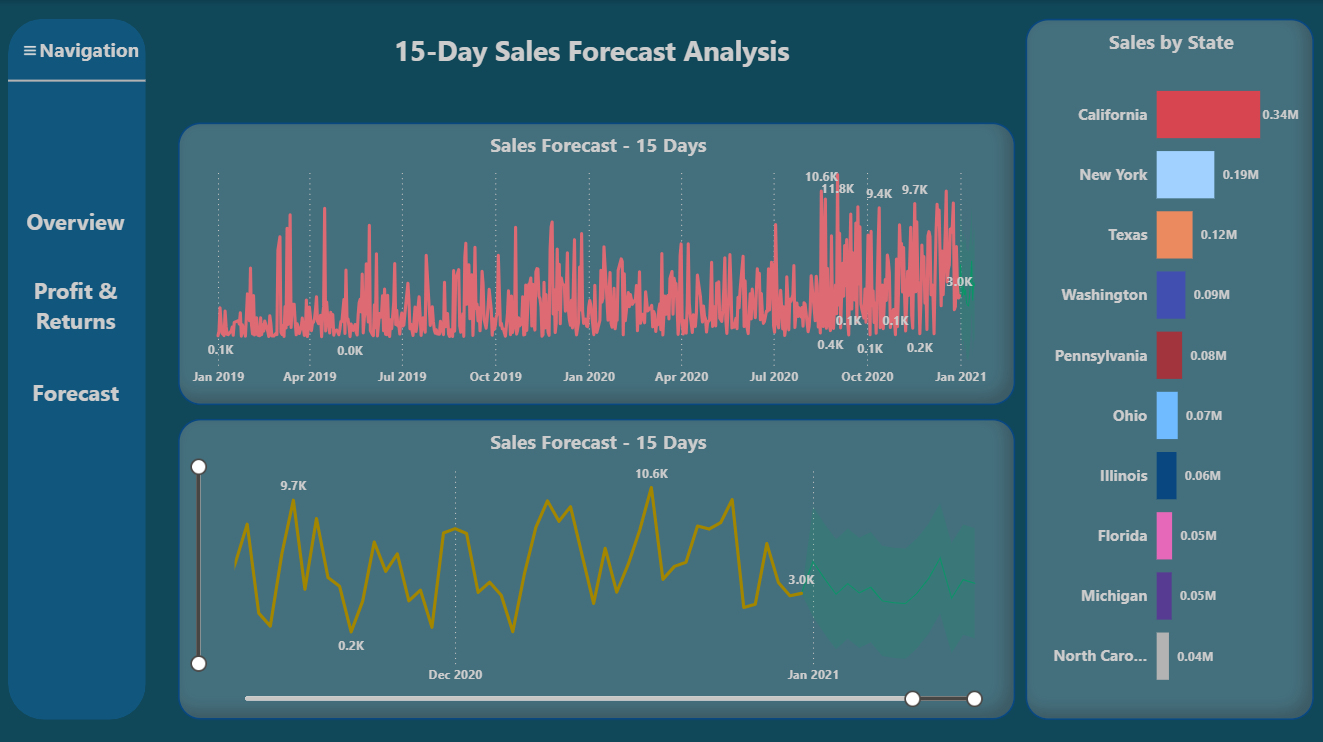

The page's visual inventory and layout, read from the dashboard file:
{"tool":"powerbi","page":{"name":"Forecast Analysis","canvas":[1280,720],"ordinal":2},"visuals":[{"type":"shape","box":[9.6,17.8,133.1,676.5],"z":0},{"type":"lineChart","title":"Sales Forecast - 15 Days","fields":{"Y":["Sum(SuperStore_Sales_Dataset.Sales)"],"Category":["SuperStore_Sales_Dataset.Order Date"]},"box":[173.7,118.2,808.3,272.7],"z":1000},{"type":"lineChart","title":"Sales Forecast - 15 Days","fields":{"Y":["Sum(SuperStore_Sales_Dataset.Sales)"],"Category":["SuperStore_Sales_Dataset.Order Date"]},"box":[173.7,404.2,808.3,290.8],"z":2000},{"type":"barChart","title":"Sales by State","fields":{"Y":["Sum(SuperStore_Sales_Dataset.Sales)"],"Category":["SuperStore_Sales_Dataset.State"]},"box":[992.1,17.8,278.6,676.5],"z":3000},{"type":"shape","box":[14.8,180,120.8,67.2],"z":4000},{"type":"shape","box":[14.8,344.7,120.8,67.2],"z":5000},{"type":"shape","box":[14.8,261,120.8,67.2],"z":6000},{"type":"shape","box":[9.7,74.8,132.7,6],"z":7000},{"type":"shape","box":[41,13.3,94.1,67.6],"z":8000},{"type":"image","box":[0,31.6,61.7,34.3],"z":9000},{"type":"shape","box":[173.7,8.4,798.7,78.4],"z":10000}]}

Visuals, with their boxes in screenshot pixels (x1, y1, x2, y2), scaled from the page's 1280x720 canvas onto the 1323x742 screenshot:
shape: (10, 18, 147, 716)
"Sales Forecast - 15 Days" lineChart: (180, 122, 1015, 403)
"Sales Forecast - 15 Days" lineChart: (180, 417, 1015, 716)
"Sales by State" barChart: (1025, 18, 1313, 716)
shape: (15, 185, 140, 255)
shape: (15, 355, 140, 424)
shape: (15, 269, 140, 338)
shape: (10, 77, 147, 83)
shape: (42, 14, 140, 83)
image: (0, 33, 64, 68)
shape: (180, 9, 1005, 89)
